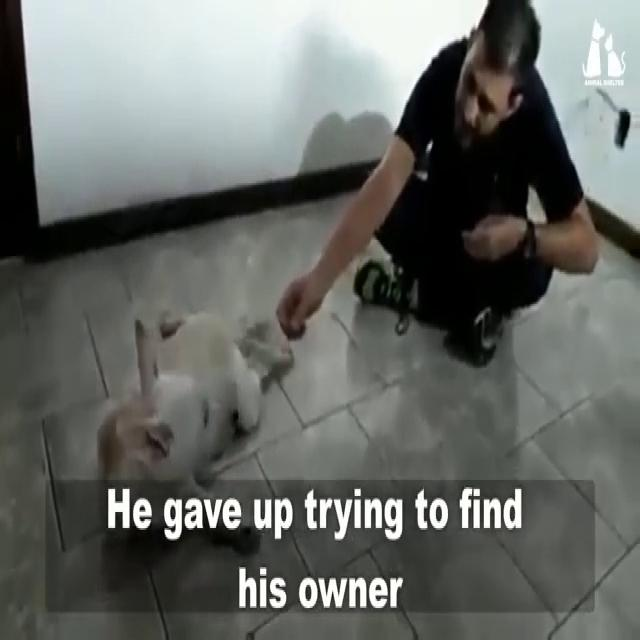normal_animals: (92, 297, 290, 489)
